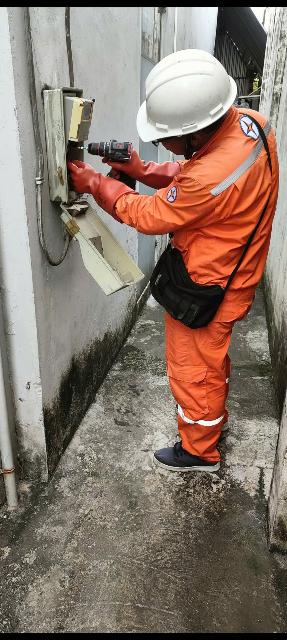gloves: (69, 158, 142, 222), (111, 144, 188, 184)
helmet: (132, 43, 244, 132)
shoes: (148, 431, 231, 485)
